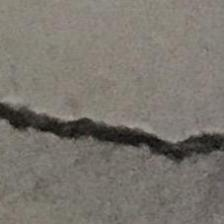Crack: (0, 82, 224, 184)
